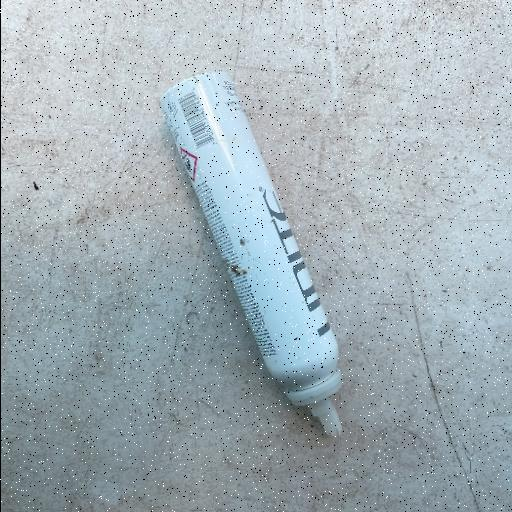Metal: (156, 66, 346, 438)
